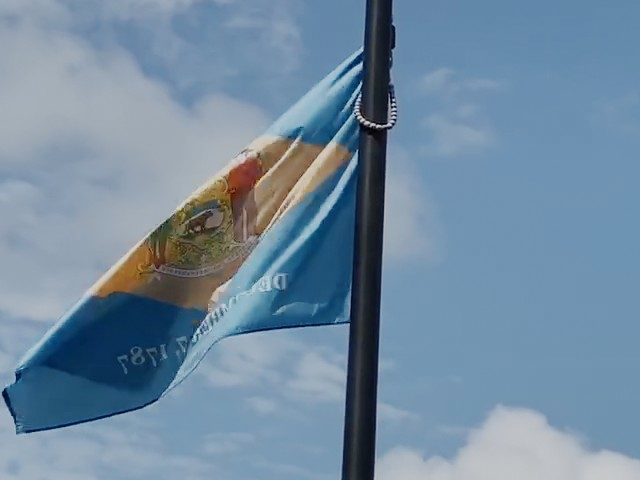Delaware flag: (5, 41, 363, 437)
